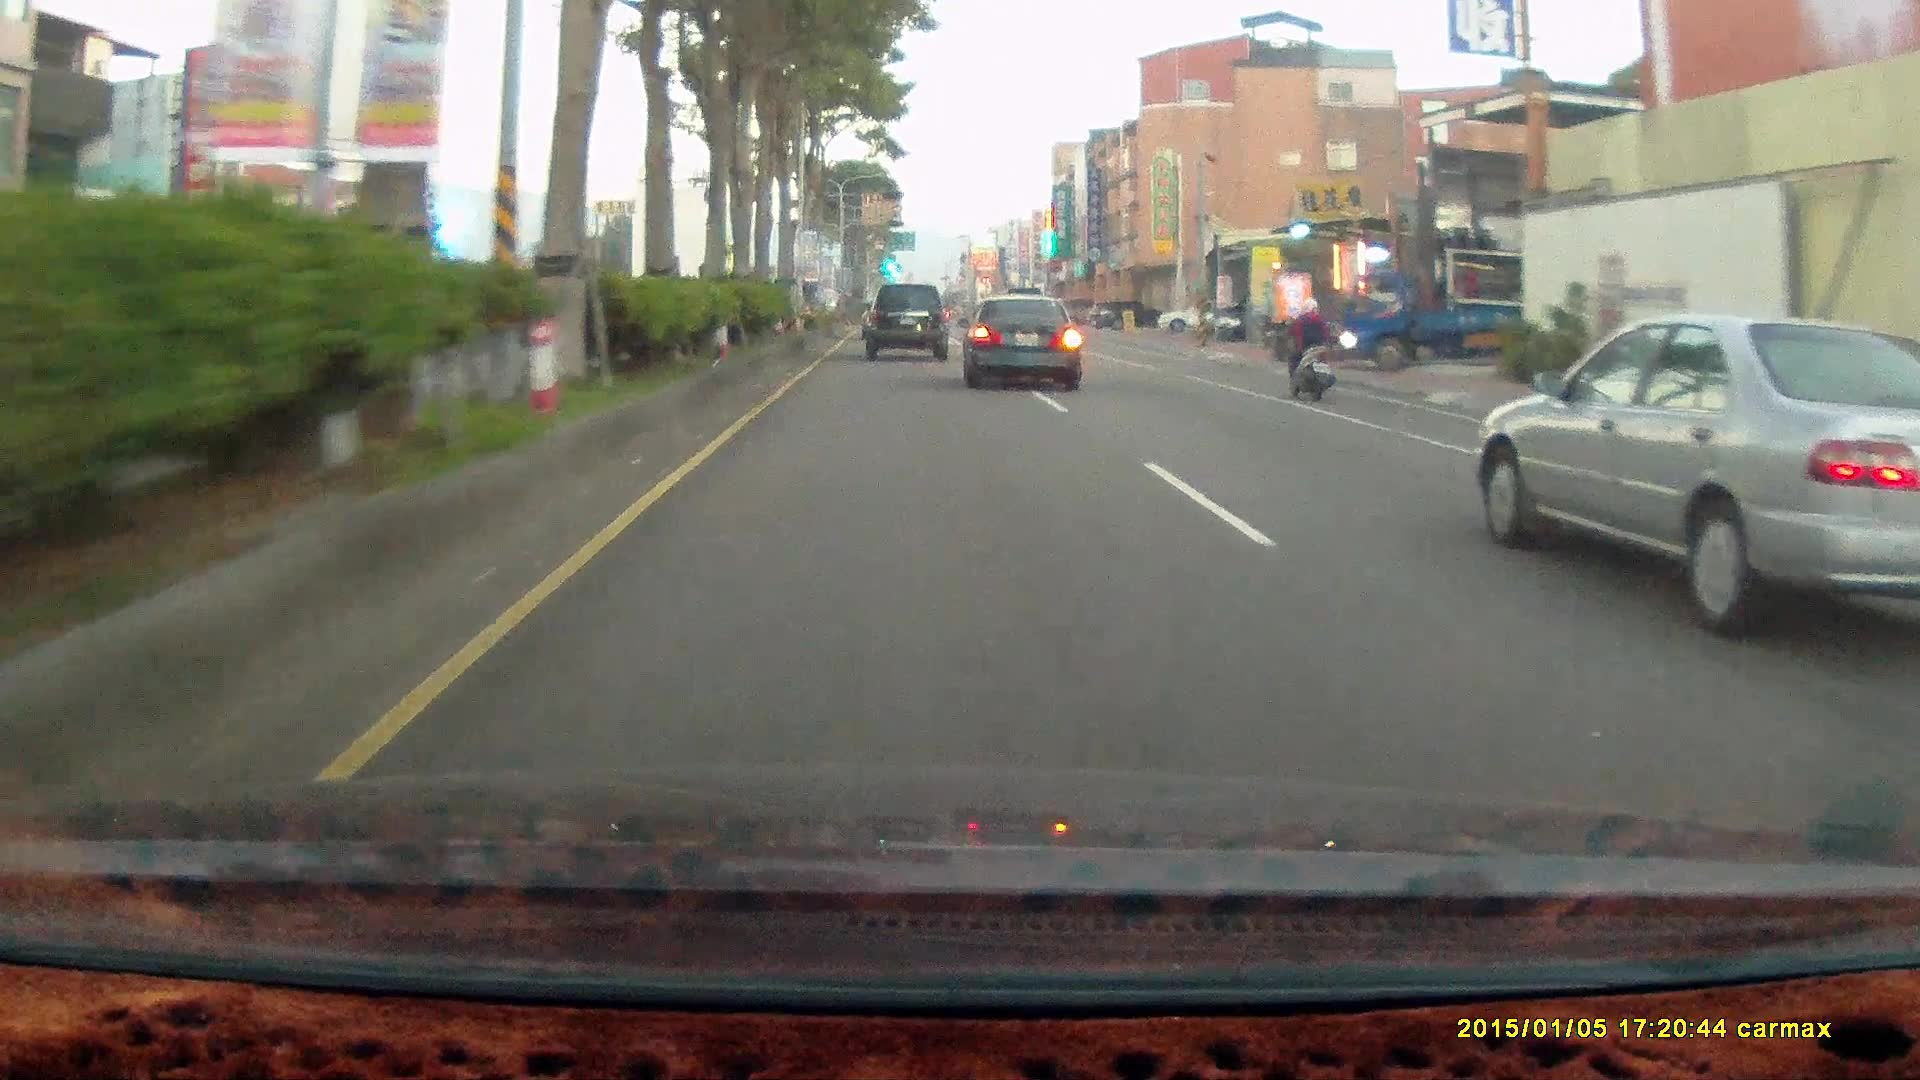rider: (1271, 290, 1349, 412), (1282, 290, 1339, 396)
vehicle: (1472, 310, 1919, 640), (1474, 311, 1920, 638), (1339, 269, 1572, 372), (1340, 269, 1521, 360), (954, 292, 1080, 390), (969, 295, 1092, 387), (862, 282, 950, 357), (865, 282, 953, 356), (1157, 305, 1230, 338), (1089, 299, 1163, 330)
